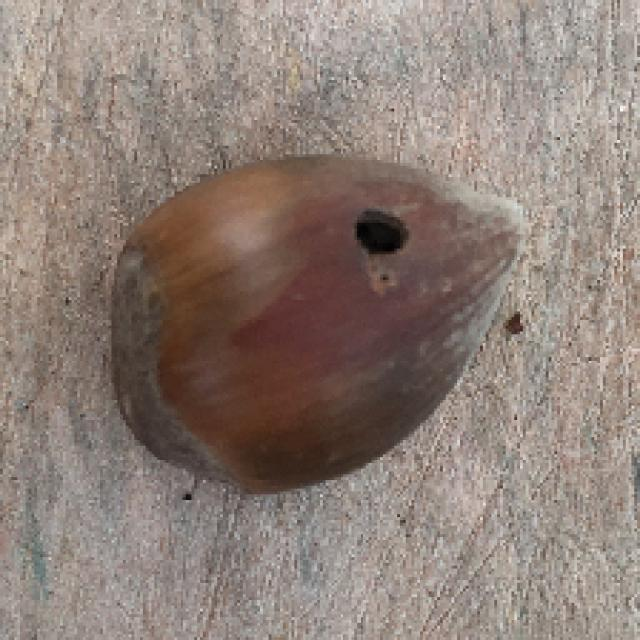DamagedHazelnut: (112, 154, 532, 497)
